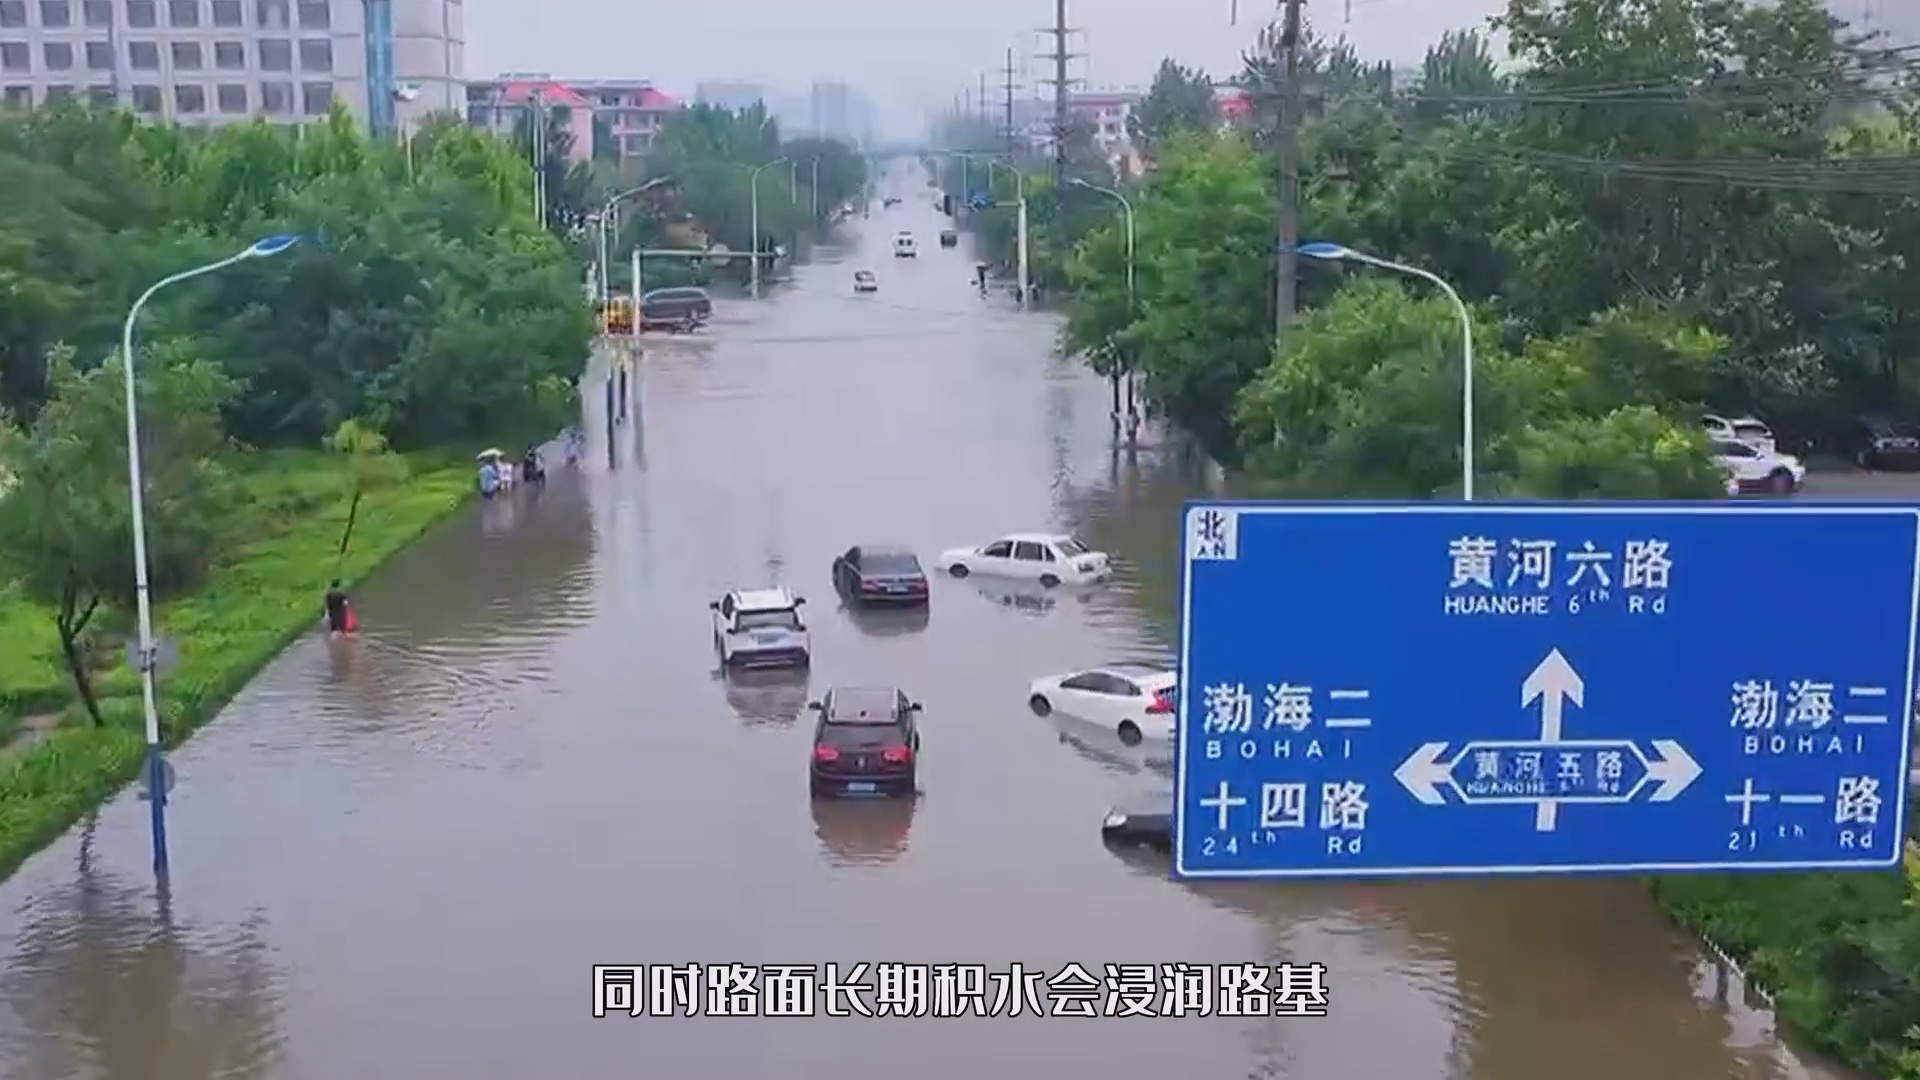puddle: (1, 799, 1832, 1080), (233, 418, 1182, 899)
